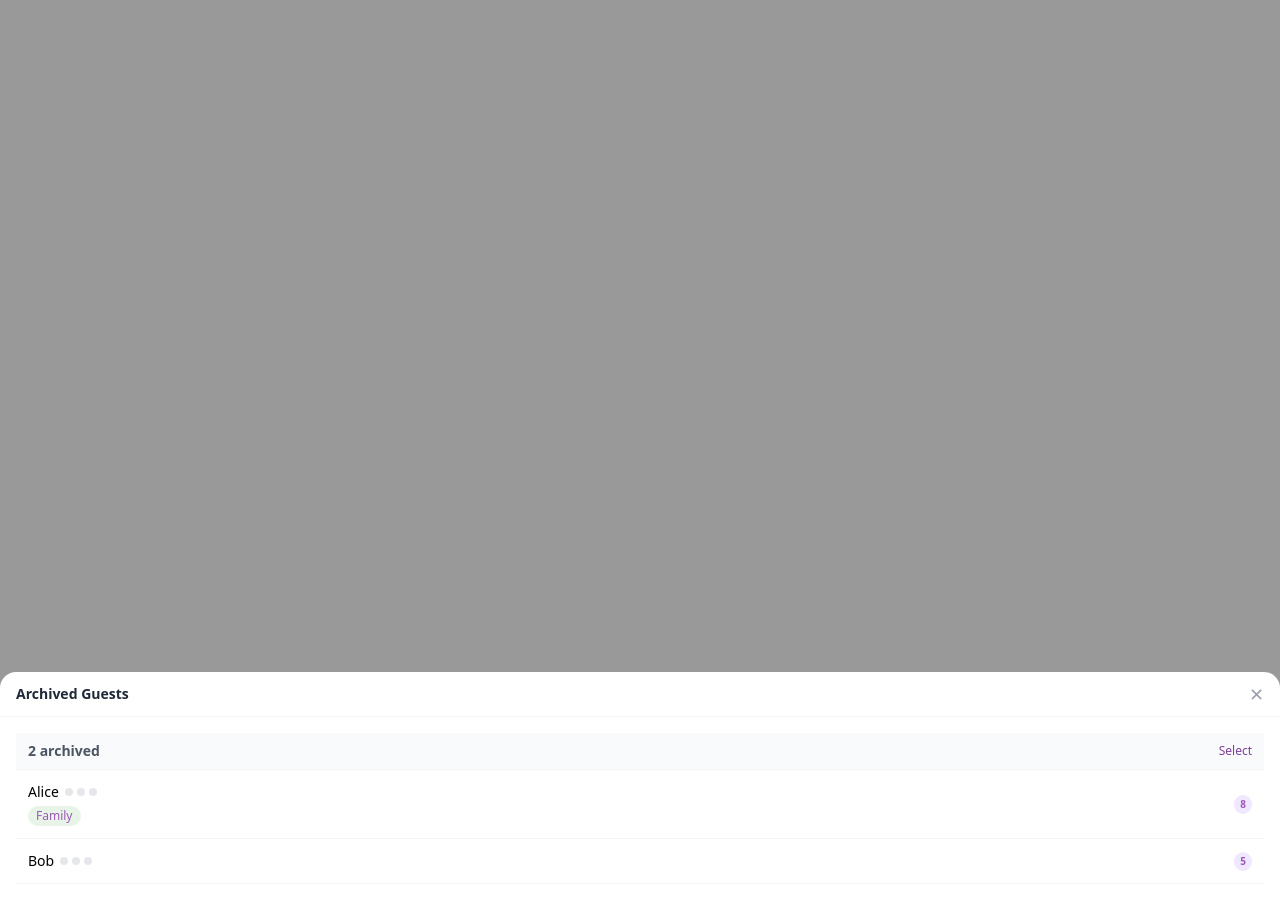
Test case: ArchivedGuestSheet › enters selection mode when Select tapped
Click the button "Select": [1235, 751] box [1219,743,1252,759]
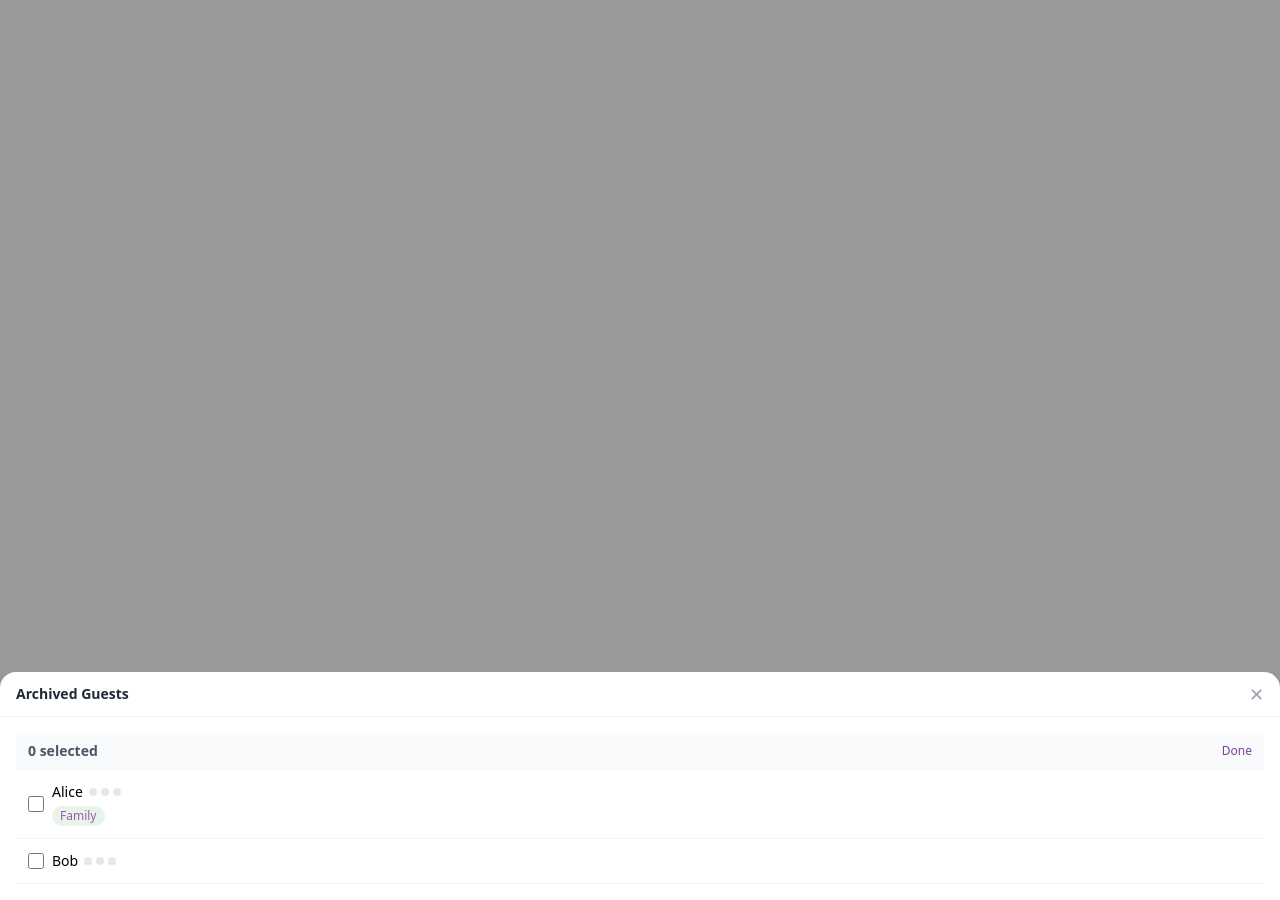
Now the number of checkboxes is 2, box [28,796,44,812]; [28,853,44,869]
